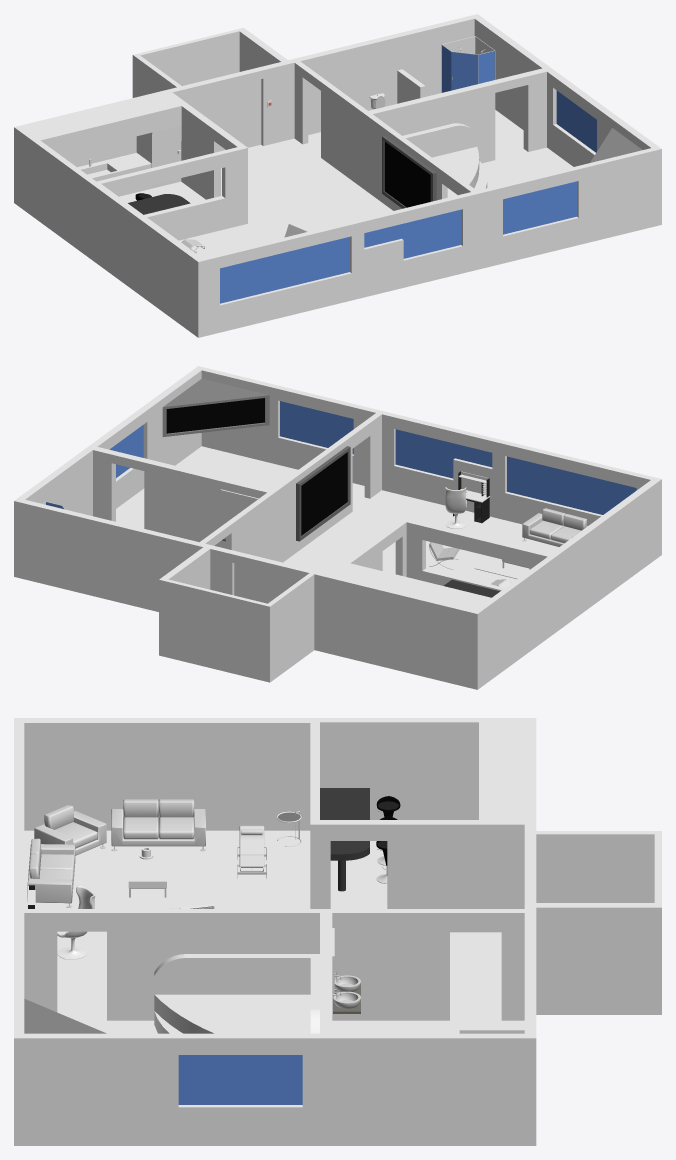
3 renders of one model, top to bottom at view 1: azimuth 30°, elevation 25°; view 2: azimuth 150°, elevation 25°; view 3: azimuth 270°, elevation 25°, orthographic. The views are drawn at different scales.
Visible parts, largest first — view 1: Layer0_001, Douche_001; view 2: Layer0_001, Home office computer desk 2_001, modchair.dxf_001; view 3: Layer0_001, bed_001, CouchArm_003, modchair.dxf_001, Component#2_002, CushionBottomStretch_005, CushionBottomStretch_007.
Boxes of the visible parts, x1=… form: Layer0_001: x1=14, y1=14, x2=661, y2=337; Douche_001: x1=441, y1=36, x2=495, y2=92; Layer0_001: x1=14, y1=366, x2=661, y2=689; Home office computer desk 2_001: x1=453, y1=471, x2=490, y2=523; modchair.dxf_001: x1=445, y1=487, x2=466, y2=528; Layer0_001: x1=14, y1=718, x2=661, y2=1145; bed_001: x1=239, y1=825, x2=264, y2=867; CouchArm_003: x1=27, y1=878, x2=72, y2=903; modchair.dxf_001: x1=57, y1=885, x2=95, y2=959; Component#2_002: x1=128, y1=866, x2=166, y2=888; CushionBottomStretch_005: x1=125, y1=817, x2=156, y2=839; CushionBottomStretch_007: x1=161, y1=817, x2=191, y2=839.
Size of the model in its own units: 16269 by 2621 by 13906.
